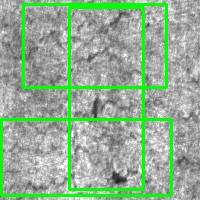crazing: (69, 7, 143, 189), (1, 119, 171, 195), (23, 4, 166, 87)
